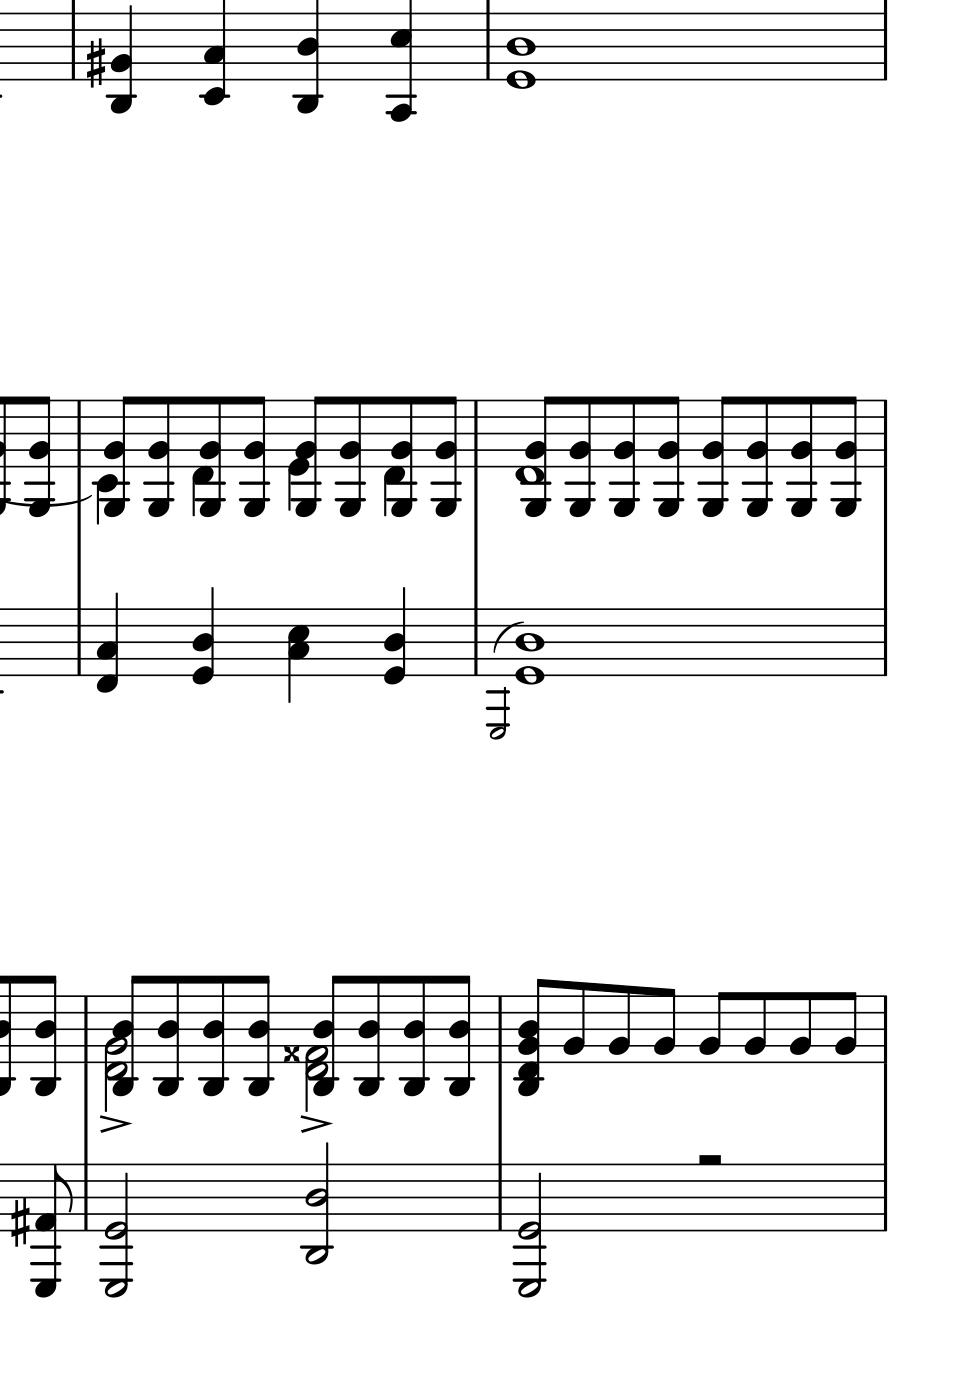1_0_4: (514, 607, 547, 688), (505, 13, 539, 89)
2_-3_4: (300, 1141, 335, 1267)
2_-7_0: (99, 1162, 135, 1299), (515, 1161, 548, 1297)
4_-1_3: (95, 591, 121, 694)
4_-2_3: (196, 1, 230, 107)
4_-3_2: (105, 1, 136, 115)
4_-3_4: (290, 1, 322, 115)
4_0_4: (190, 586, 217, 685), (382, 585, 408, 686)
4_3_5: (285, 607, 311, 703)
8_-3_4: (29, 973, 62, 1099), (238, 971, 270, 1096), (150, 973, 182, 1098), (397, 971, 428, 1096), (444, 971, 476, 1096), (196, 972, 228, 1096), (352, 973, 384, 1098)
8_-5_2: (606, 392, 637, 517), (428, 394, 460, 519), (140, 392, 171, 517), (194, 391, 225, 516), (653, 392, 684, 517), (828, 392, 859, 517), (25, 393, 56, 517), (237, 393, 267, 517), (334, 394, 365, 519), (384, 394, 415, 519), (562, 394, 593, 519), (700, 393, 731, 517), (740, 393, 771, 517), (785, 394, 816, 519)
8_-7_1: (29, 1163, 76, 1298)
8_2: (698, 990, 729, 1065), (606, 983, 632, 1065), (561, 981, 587, 1064), (787, 990, 813, 1065), (651, 986, 676, 1065), (833, 990, 858, 1065), (742, 990, 767, 1065)
8_4th: (514, 977, 552, 1096)
Accent_above: (297, 1113, 334, 1135), (97, 1115, 133, 1135)
DSharp: (277, 1041, 301, 1062), (281, 1043, 301, 1063)
Rests2: (694, 1150, 727, 1170)
Sharp: (81, 33, 108, 89), (8, 1196, 30, 1248)
Single_barline: (466, 400, 485, 468), (467, 609, 486, 676), (492, 995, 509, 1064), (479, 13, 496, 80), (877, 399, 893, 469), (876, 14, 893, 78), (876, 1165, 893, 1230), (71, 399, 87, 468), (65, 13, 81, 81), (71, 609, 87, 676), (876, 609, 892, 676), (78, 996, 94, 1063), (492, 1164, 508, 1231), (877, 995, 892, 1064), (78, 1164, 93, 1230)
Slur: (492, 621, 523, 649)
